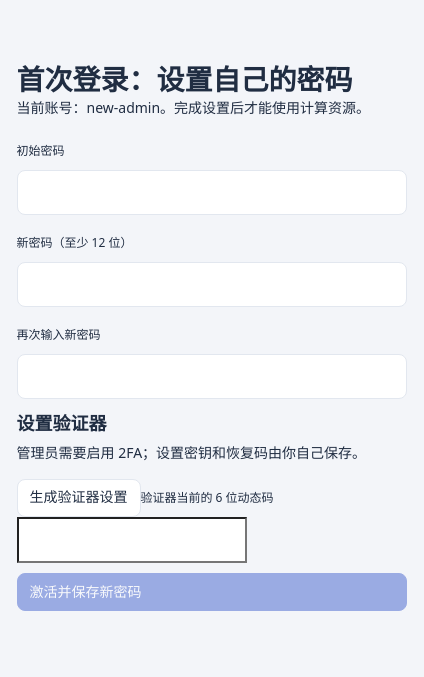
Test case: new administrator must save personal MFA enrollment before submitting
This screenshot has width=424, height=677.
Expected: the button "激活并保存新密码" is disabled, [16,573,406,611]
Click the button "生成验证器设置" at (78, 498), box [16,479,140,517]
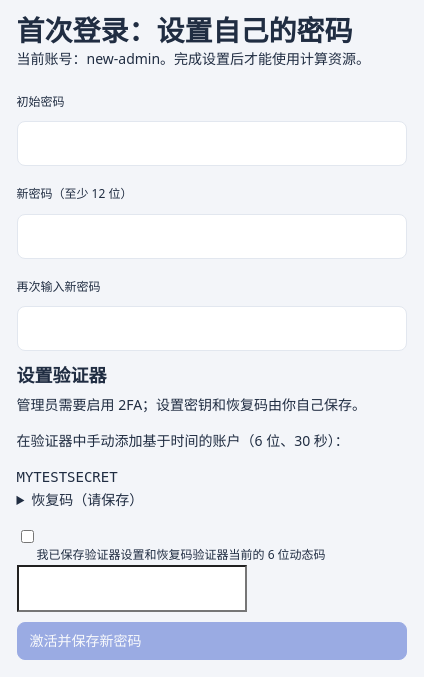
Expected: the button "激活并保存新密码" is disabled, [16,622,406,660]
Now the text "MYTESTSECRET" is shown, box [16,469,118,485]
Click the checkbox at (27, 537), box [20,514,34,559]
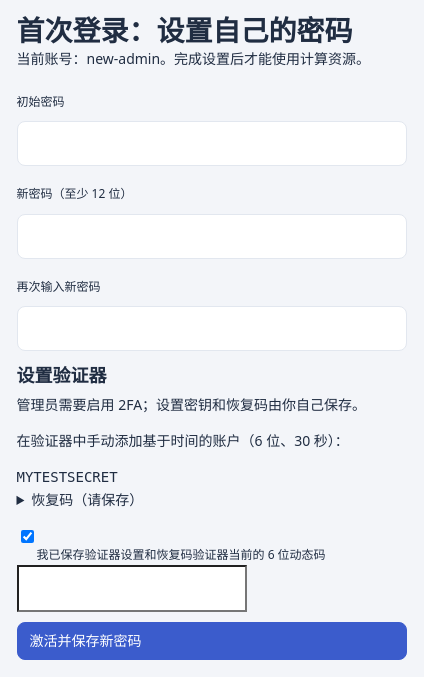
Now the button "激活并保存新密码" is enabled, box [16,622,406,660]
